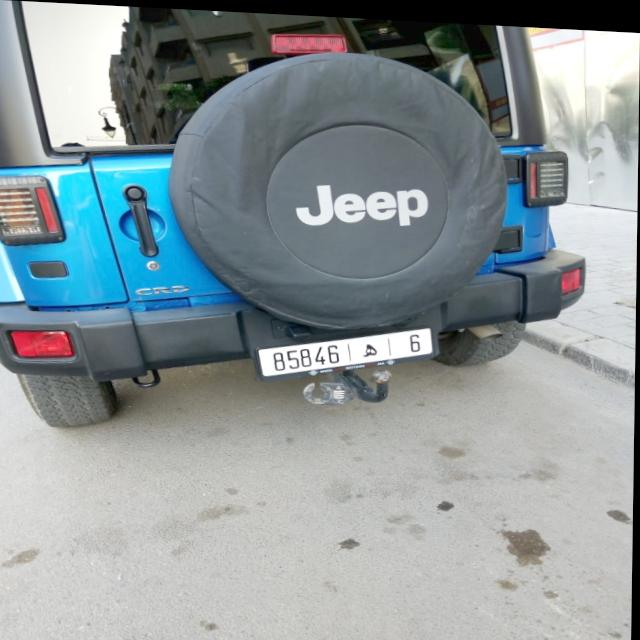License-Plate: (258, 324, 435, 373)
